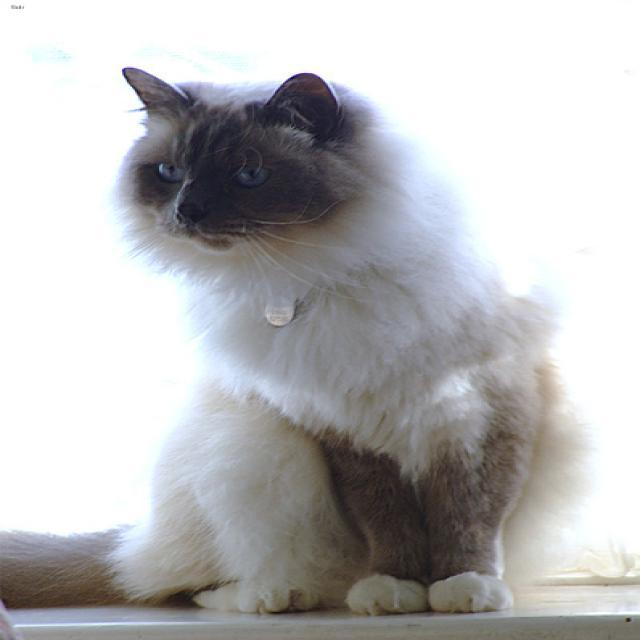Birman: (83, 57, 459, 308)
